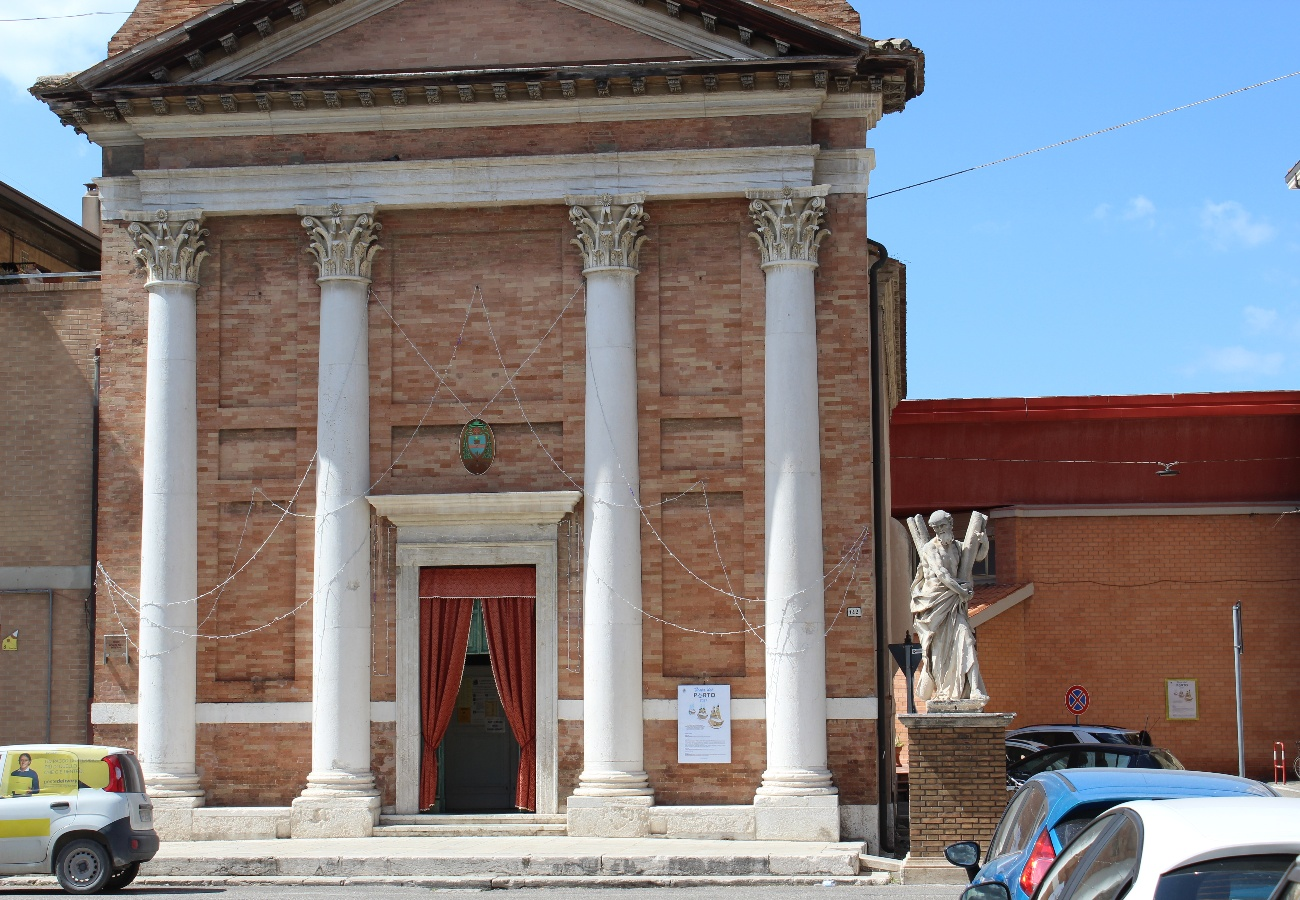Parrocchia Santa Maria: (24, 1, 994, 875)
